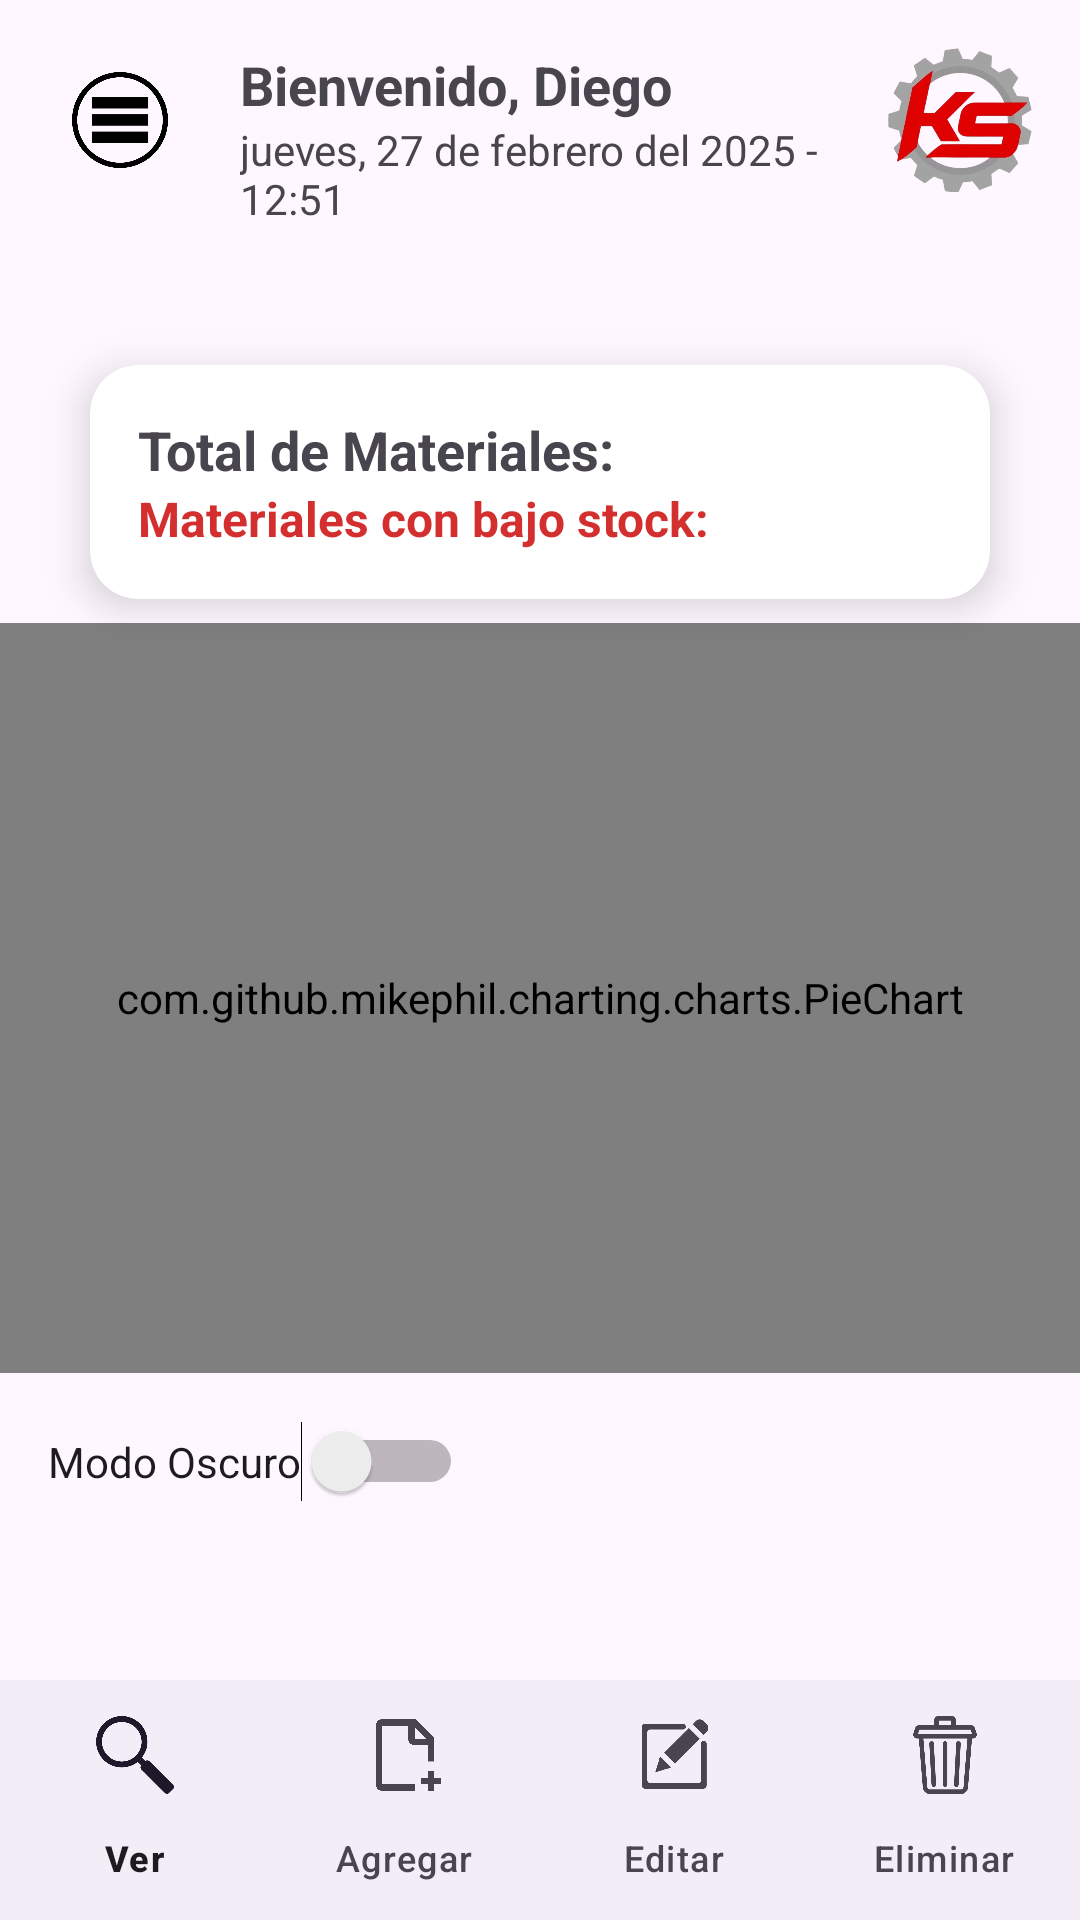

Screen size 1080×1920. Icon name, then its center in pixels as point (x, y):
Menú: point (120, 120)
